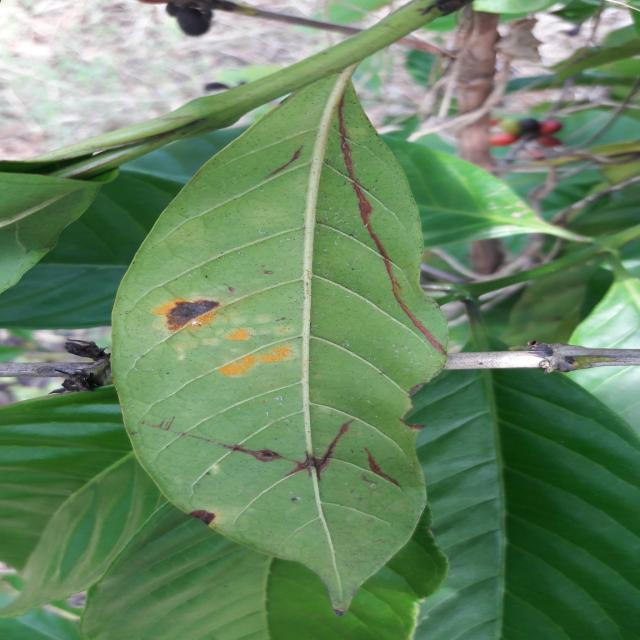Enfermedad-Roya: (109, 68, 458, 616)
